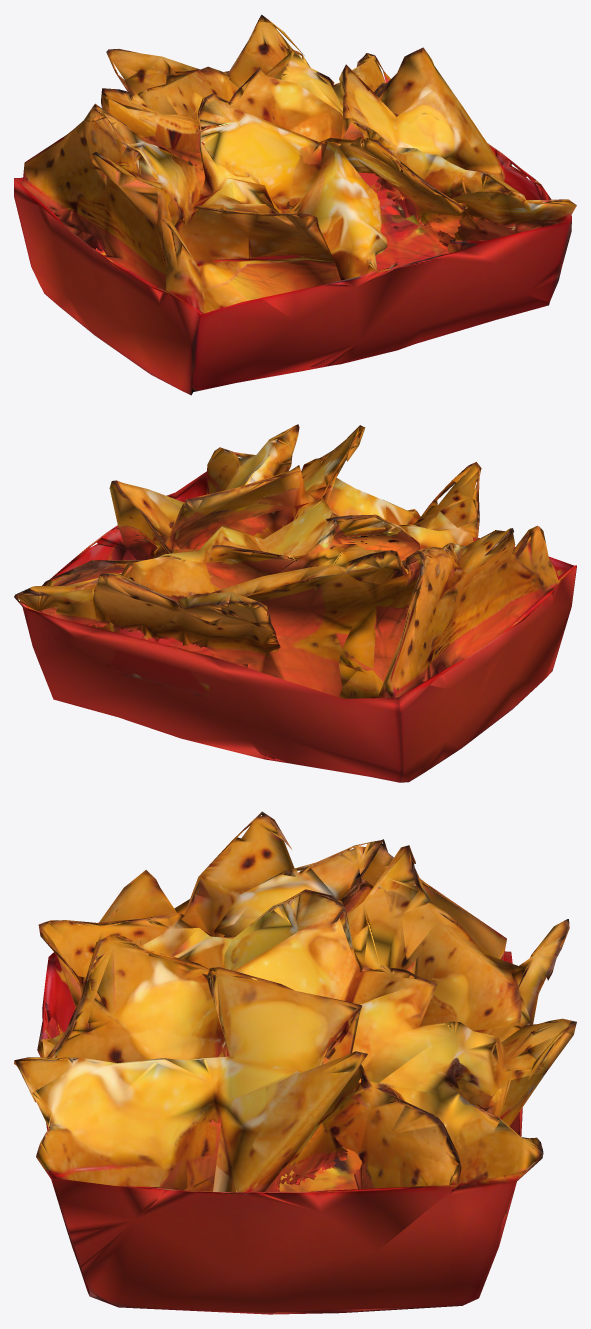
Rendered from app_nch.glb.
3 views of the same model, one above another, from view 1: azimuth 30°, elevation 25°; view 2: azimuth 150°, elevation 25°; view 3: azimuth 270°, elevation 25° (orthographic). The views are drawn at different scales.
Size of the model in its own units: 1.95 by 1.02 by 1.84.
1 material, 1 textured.
